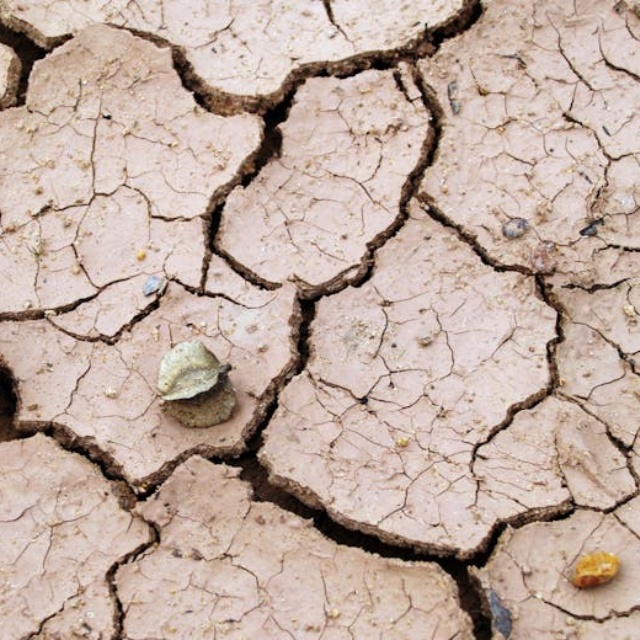细微裂纹: (50, 303, 224, 640), (0, 391, 217, 640), (350, 0, 479, 290), (0, 531, 204, 640)
网状裂隙: (0, 0, 444, 541), (374, 412, 640, 640)
